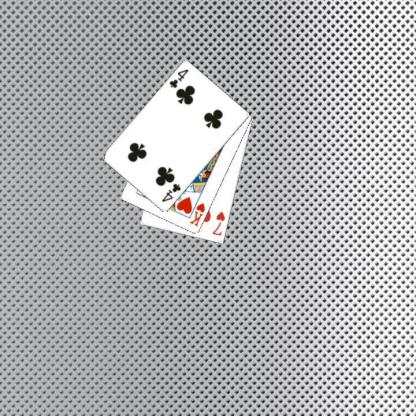4C: (166, 67, 190, 90), (159, 181, 182, 203)
7H: (210, 209, 226, 238)
KH: (187, 200, 206, 228)
